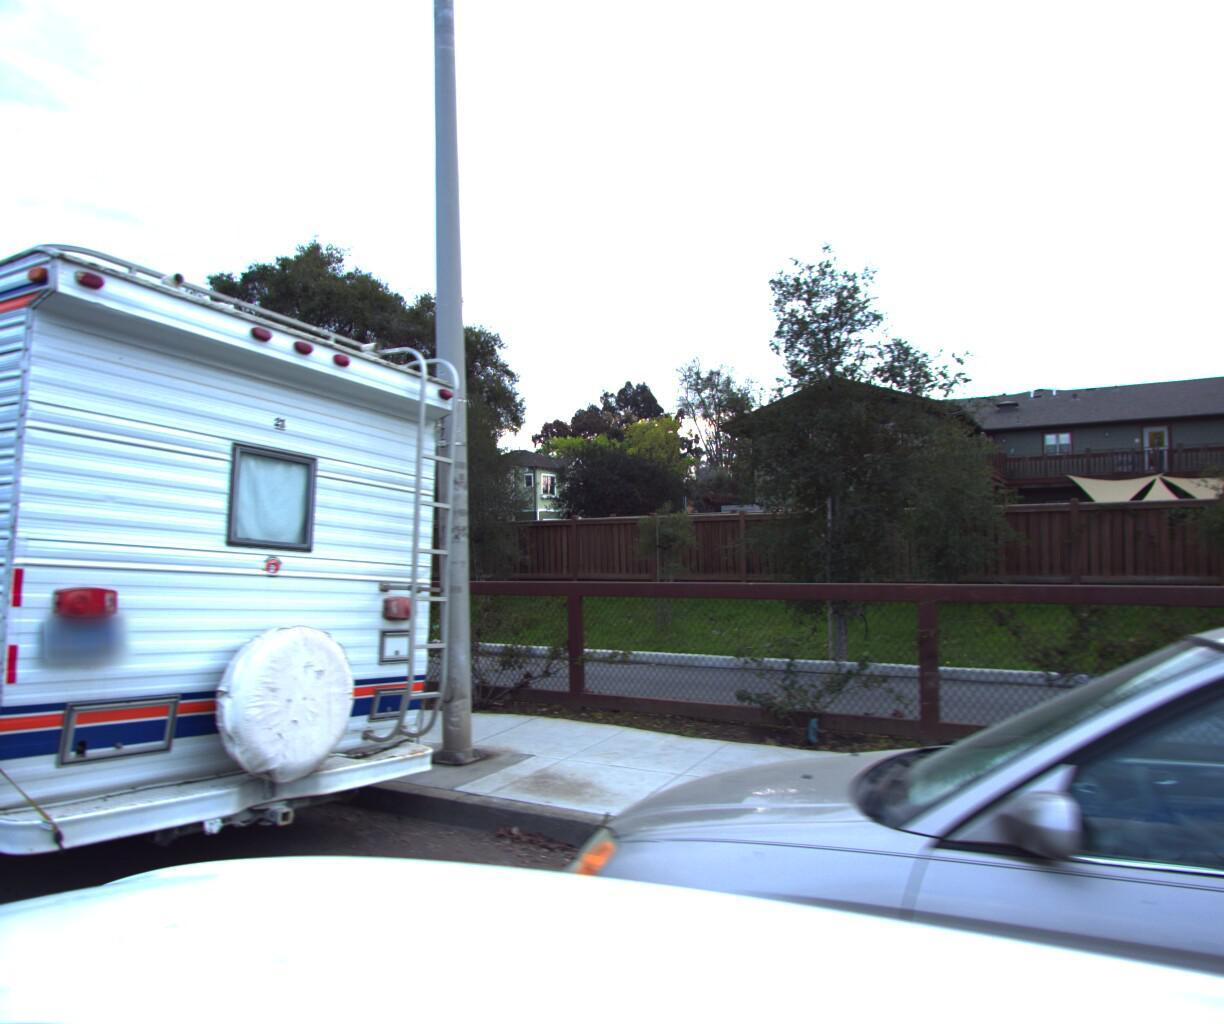car: (424, 571, 1224, 1024)
other_vehicle: (0, 201, 487, 1024)
